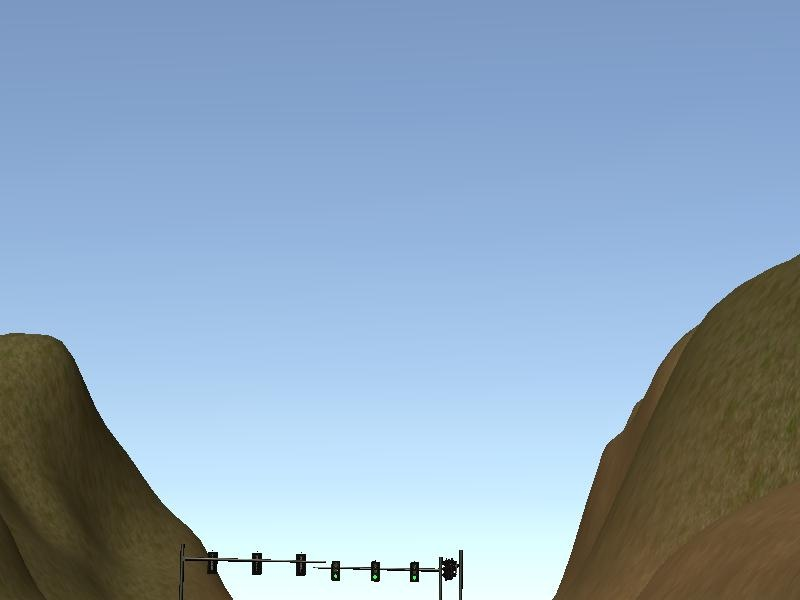green: (330, 560, 341, 582), (370, 560, 380, 583), (410, 561, 420, 583)
